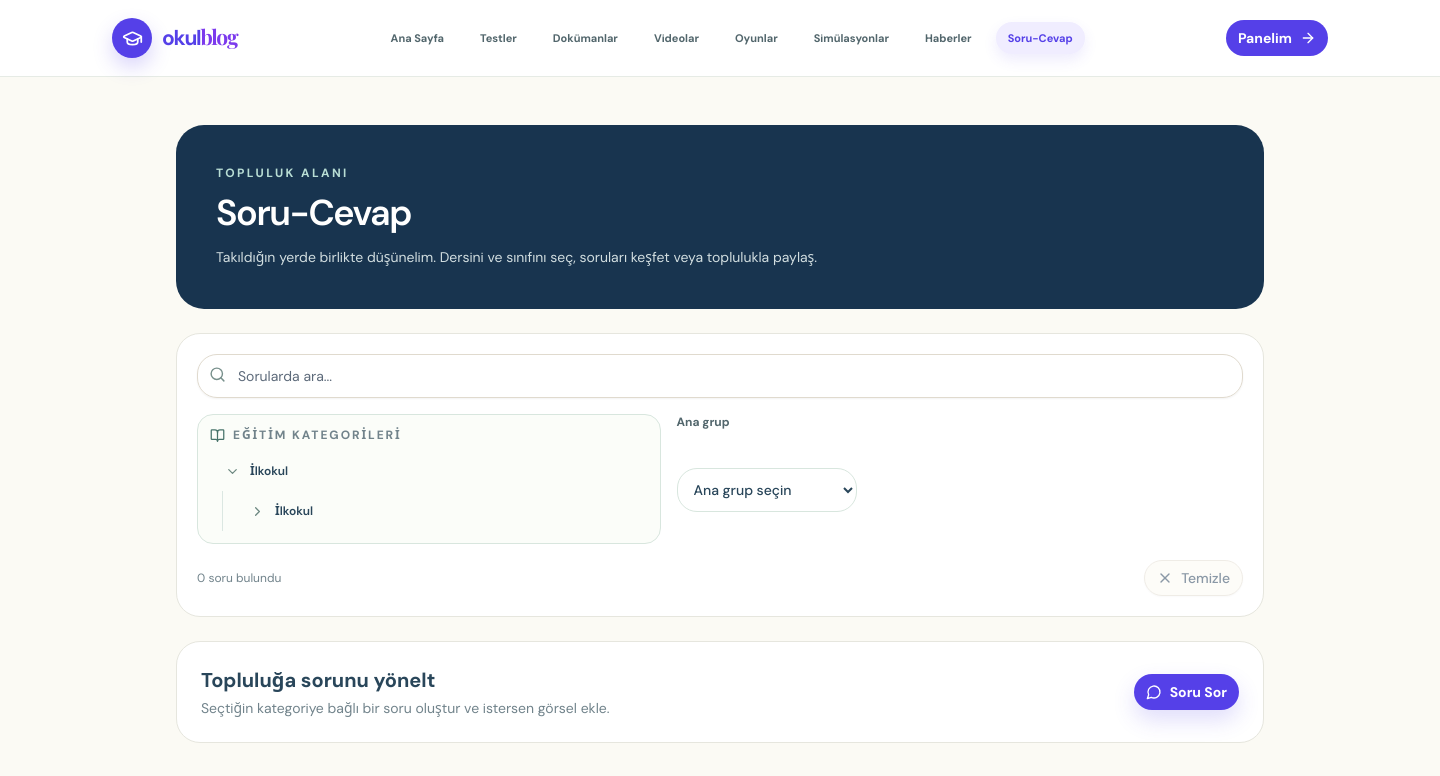
Test: Soru-Cevap sayfası › giriş yapan kullanıcıya görsel eklemeli Soru Sor modalı sunar
Click the button "Soru Sor": point(1186, 692) [1134, 674, 1239, 710]
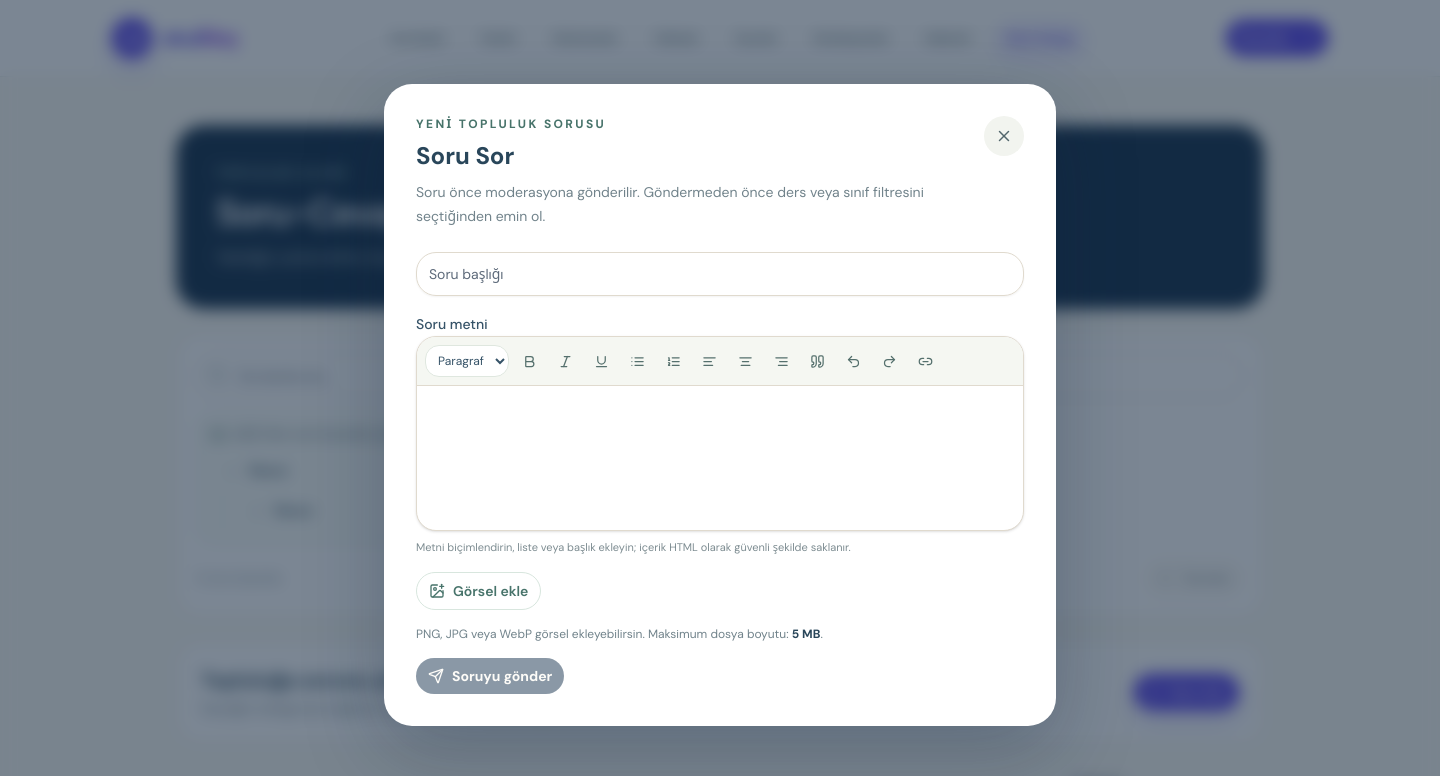
Expected: the dialog "Soru Sor" is shown, [384, 84, 1056, 726]
Expected: the file field "Görsel ekle" is shown, [416, 572, 541, 610]
Expected: the field labelled "Soru başlığı" is shown, [416, 252, 1024, 296]
